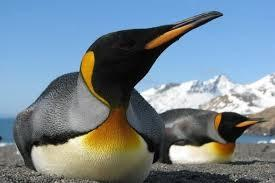king: (7, 6, 216, 183), (149, 106, 269, 183)
